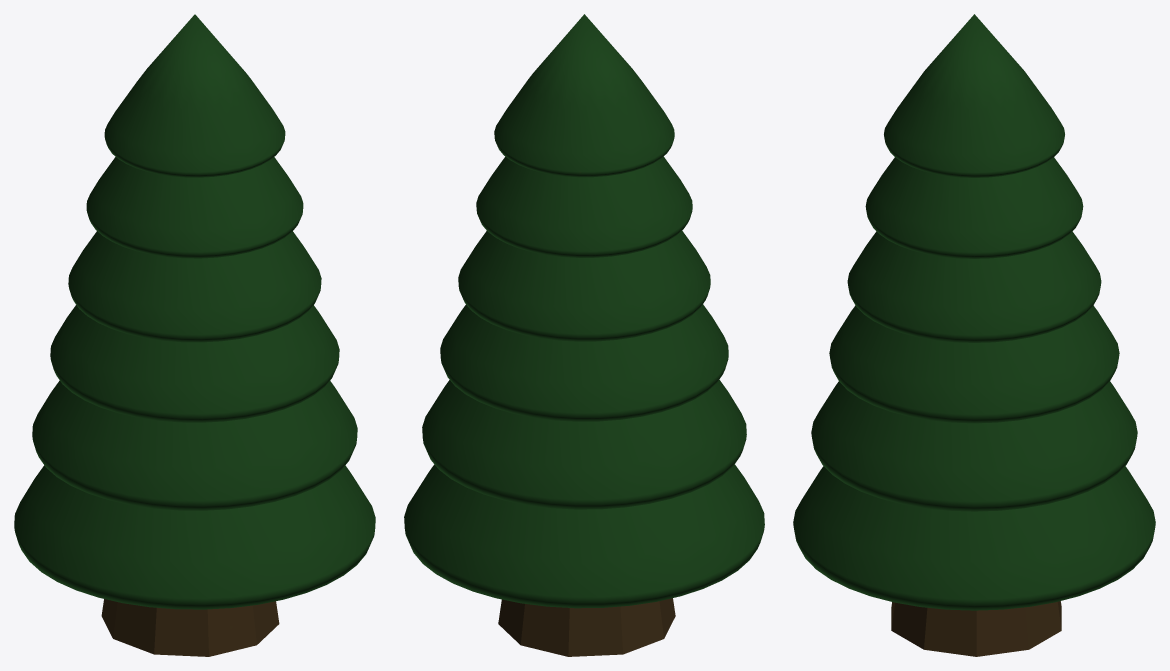
File: tree2.fbx
The picture shows the model from 3 angles, left to right: view 1: azimuth 30°, elevation 25°; view 2: azimuth 150°, elevation 25°; view 3: azimuth 270°, elevation 25°; orthographic projection.
Visible parts, largest first — view 1: pCone8; view 2: pCone8; view 3: pCone8.
Boxes of the visible parts, bbox=[...] form: pCone8: bbox=[14, 14, 375, 656]; pCone8: bbox=[404, 14, 764, 656]; pCone8: bbox=[793, 14, 1155, 656].
Bounding box in the file's own units: 1.32 × 2.43 × 1.32.
